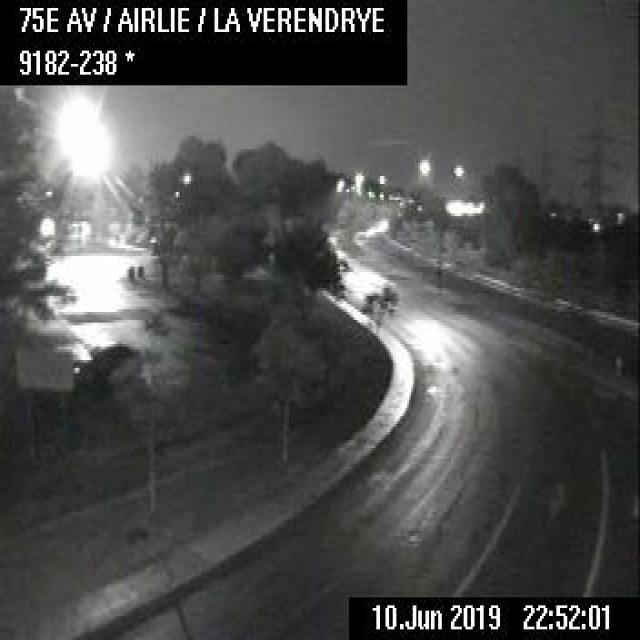vehicle: (72, 340, 141, 381)
